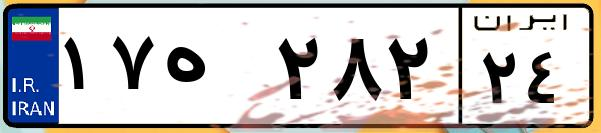1: (57, 26, 110, 100)
2: (270, 28, 330, 110), (385, 28, 445, 110), (475, 38, 525, 113)
4: (525, 38, 570, 115)
7: (110, 28, 158, 98)
8: (330, 28, 385, 110)
ه: (158, 20, 270, 120)
